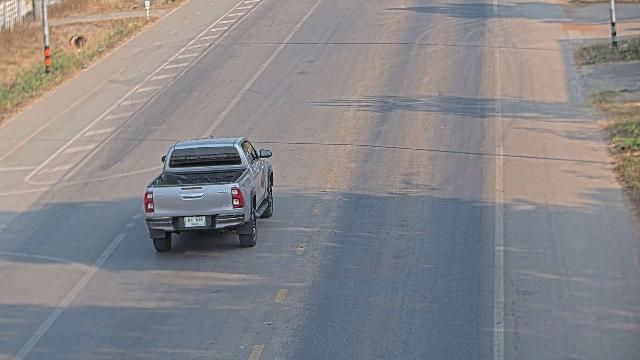pickup-truck: (143, 136, 274, 252)
